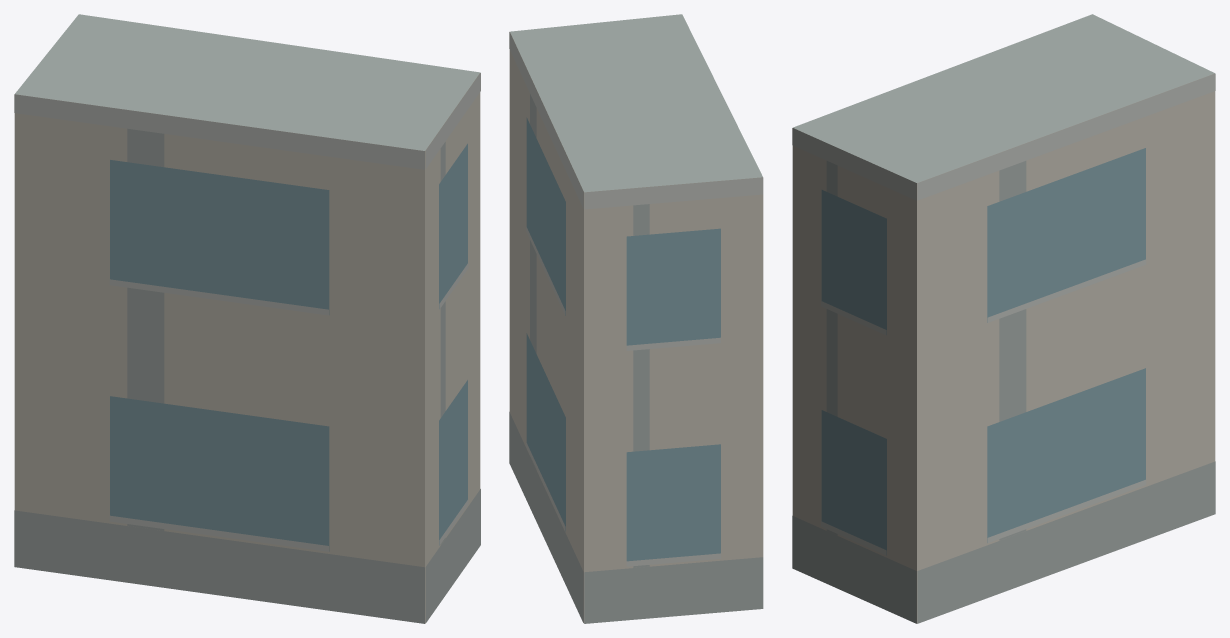
Rendered from survey-upis-32568765.glb.
3 renders of one model, left to right at view 1: azimuth 30°, elevation 25°; view 2: azimuth 150°, elevation 25°; view 3: azimuth 270°, elevation 25°, orthographic. The views are drawn at different scales.
Visible parts, largest first — view 1: survey-upis-32568765.tmp; view 2: survey-upis-32568765.tmp; view 3: survey-upis-32568765.tmp.
Part boxes in pixels (x1,y1,x2,y2): survey-upis-32568765.tmp: (14,14,480,623); survey-upis-32568765.tmp: (509,14,763,623); survey-upis-32568765.tmp: (792,14,1215,623).
Size of the model in its own units: 5.03 by 6.1 by 5.32.
